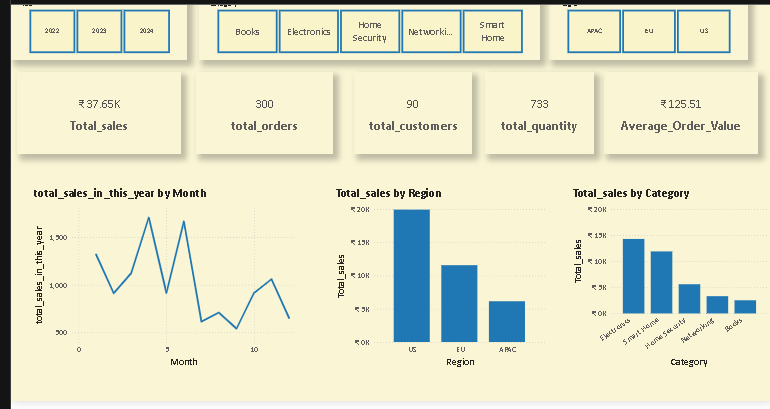

What the dashboard file says about the page in this screenshot:
{"tool":"powerbi","page":{"name":"Execute_Summary","canvas":[1280,720],"ordinal":1},"visuals":[{"type":"card","fields":{"Values":["Metrics.Total_sales"]},"box":[10.1,168,275.5,137.7],"z":0},{"type":"card","fields":{"Values":["Metrics.Average_Order_Value"]},"box":[996.1,168,258.7,137.7],"z":1000},{"type":"card","fields":{"Values":["Metrics.total_orders"]},"box":[310.8,168,230.1,137.7],"z":2000},{"type":"card","fields":{"Values":["Metrics.total_customers"]},"box":[576.2,168,198.2,137.7],"z":3000},{"type":"card","fields":{"Values":["Metrics.total_quantity"]},"box":[796.2,168,183.1,137.7],"z":4000},{"type":"lineChart","fields":{"Category":["calendar.Month"],"Y":["Metrics.total_sales_in_this_year"]},"box":[33.6,359.5,448.5,309.1],"z":5000},{"type":"clusteredColumnChart","fields":{"Category":["customers.Region"],"Y":["Metrics.Total_sales"]},"box":[540.9,359.5,362.8,309.1],"z":6000},{"type":"clusteredColumnChart","fields":{"Category":["products.Category"],"Y":["Metrics.Total_sales"]},"box":[939,359.5,337.6,309.1],"z":7000},{"type":"slicer","fields":{"Values":["calendar.Year"]},"box":[0,35.3,295.6,112.5],"z":8000},{"type":"slicer","fields":{"Values":["products.Category"]},"box":[315.8,35.3,572.8,112.5],"z":9000},{"type":"slicer","fields":{"Values":["customers.Region"]},"box":[903.7,35.3,334.3,112.5],"z":10000},{"type":"actionButton","box":[0,0,100,40],"z":10001}]}

Visuals, with their boxes on the page's 1280x720 design canvas (x1, y1, x2, y2). These are canvas units, not pixel positions in the 770x409 screenshot, which may show the page scaled, cropped or inside an application window:
card - Metrics.Total_sales: x1=10, y1=168, x2=286, y2=306
card - Metrics.Average_Order_Value: x1=996, y1=168, x2=1255, y2=306
card - Metrics.total_orders: x1=311, y1=168, x2=541, y2=306
card - Metrics.total_customers: x1=576, y1=168, x2=774, y2=306
card - Metrics.total_quantity: x1=796, y1=168, x2=979, y2=306
lineChart - calendar.Month x Metrics.total_sales_in_this_year: x1=34, y1=360, x2=482, y2=669
clusteredColumnChart - customers.Region x Metrics.Total_sales: x1=541, y1=360, x2=904, y2=669
clusteredColumnChart - products.Category x Metrics.Total_sales: x1=939, y1=360, x2=1277, y2=669
slicer - calendar.Year: x1=0, y1=35, x2=296, y2=148
slicer - products.Category: x1=316, y1=35, x2=889, y2=148
slicer - customers.Region: x1=904, y1=35, x2=1238, y2=148
actionButton: x1=0, y1=0, x2=100, y2=40
